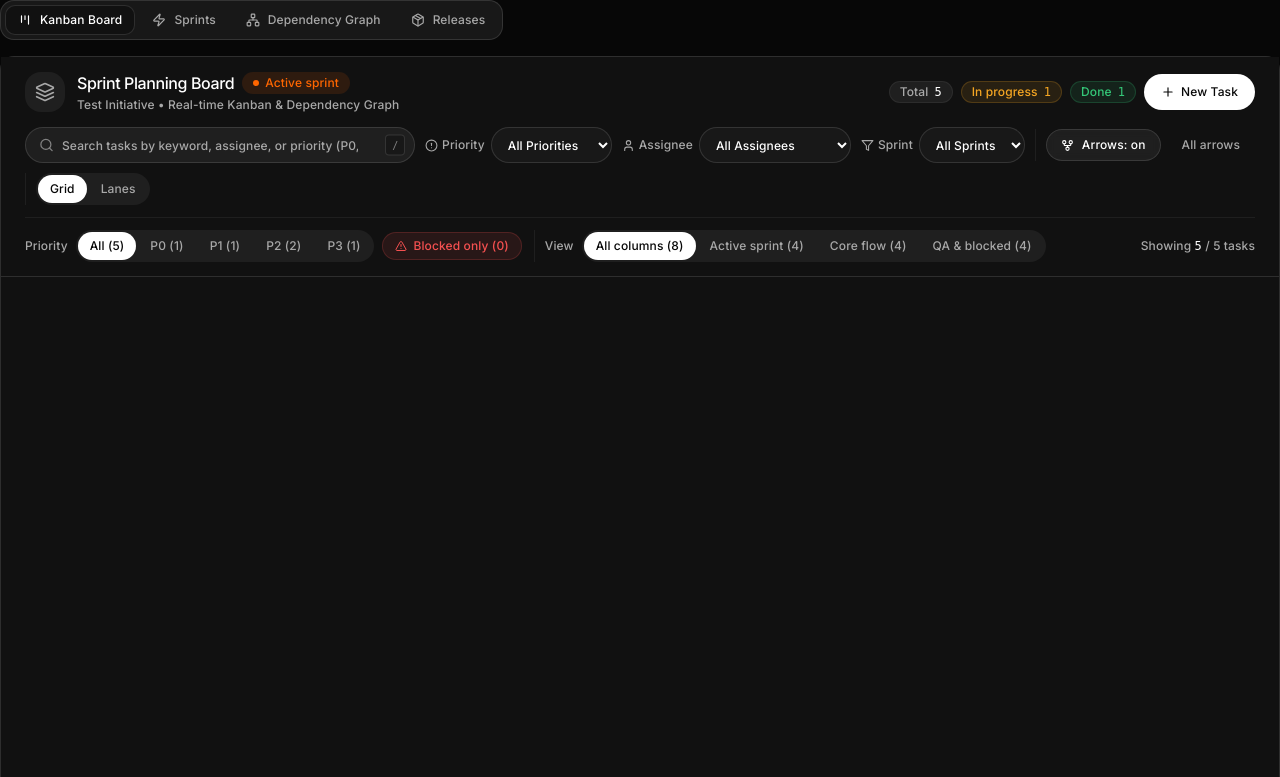
Test case: KanbanTab Search and Filter › filters tasks by keyword in title
Replace the text in the field with placeholder "Search tasks by keyword" with "Cypress" at {"x": 220, "y": 145}, box x1=25 y1=127 x2=415 y2=163
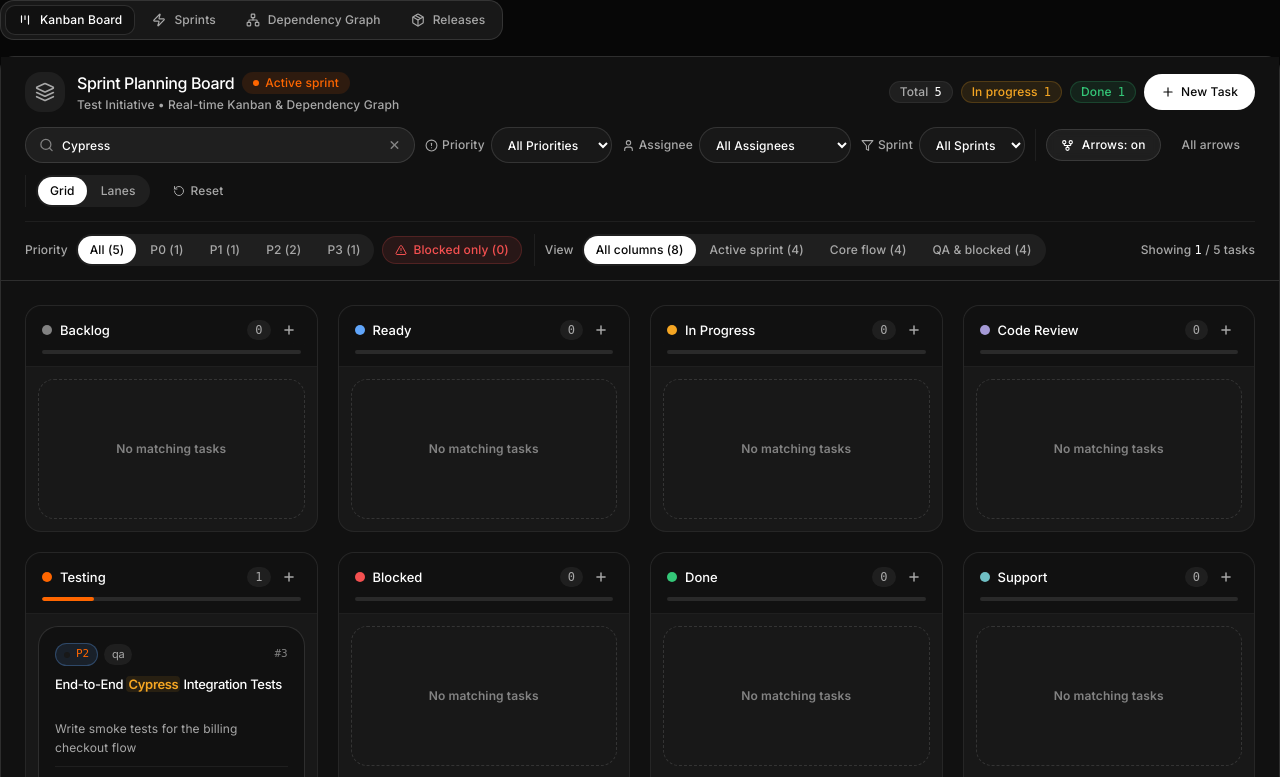
Check: the element labelled "End-to-End Cypress Integration Tests" is shown, box x1=55 y1=676 x2=282 y2=692
